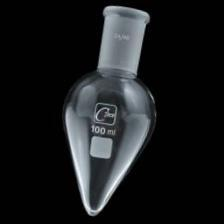Pear shaped flask: (56, 10, 159, 212)
